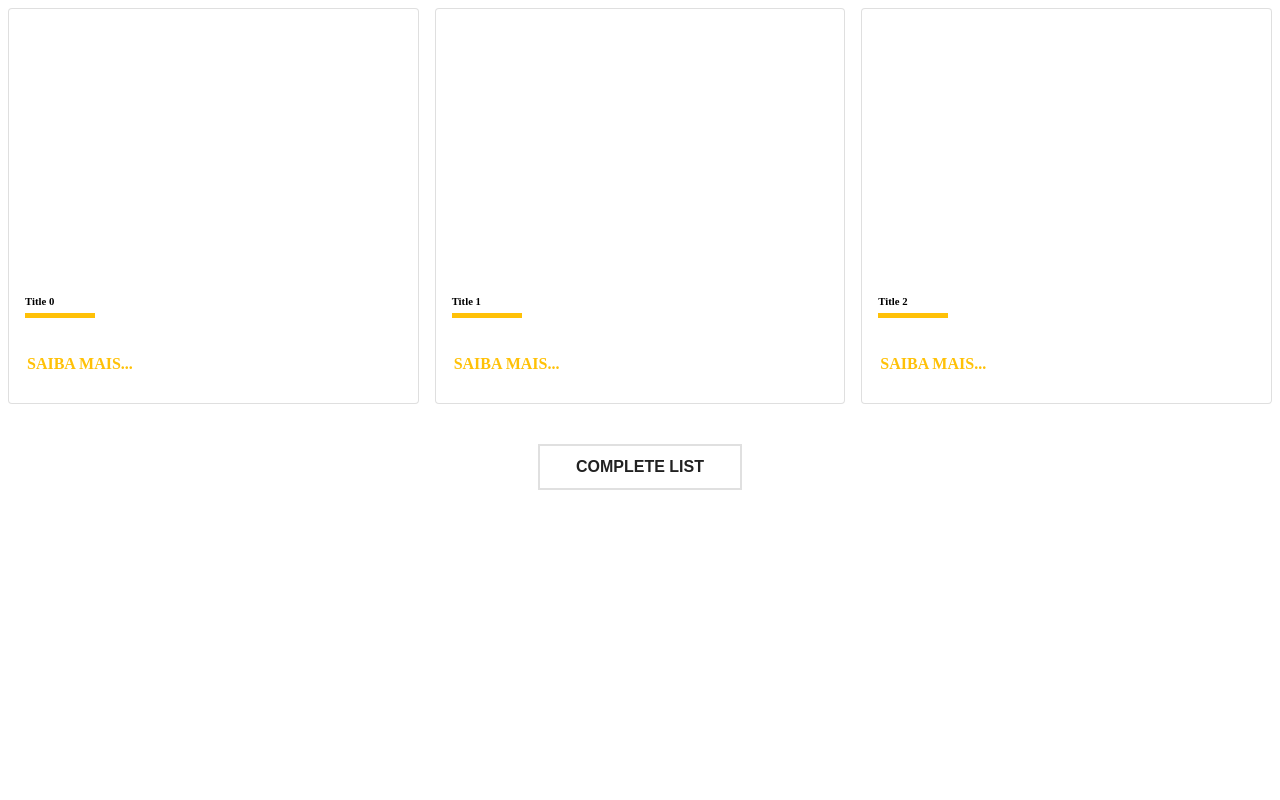
Test: it should renders only 4 products › it should render all products when the button is clicked
Click the button "Complete List": (640, 467) [538,444,742,490]
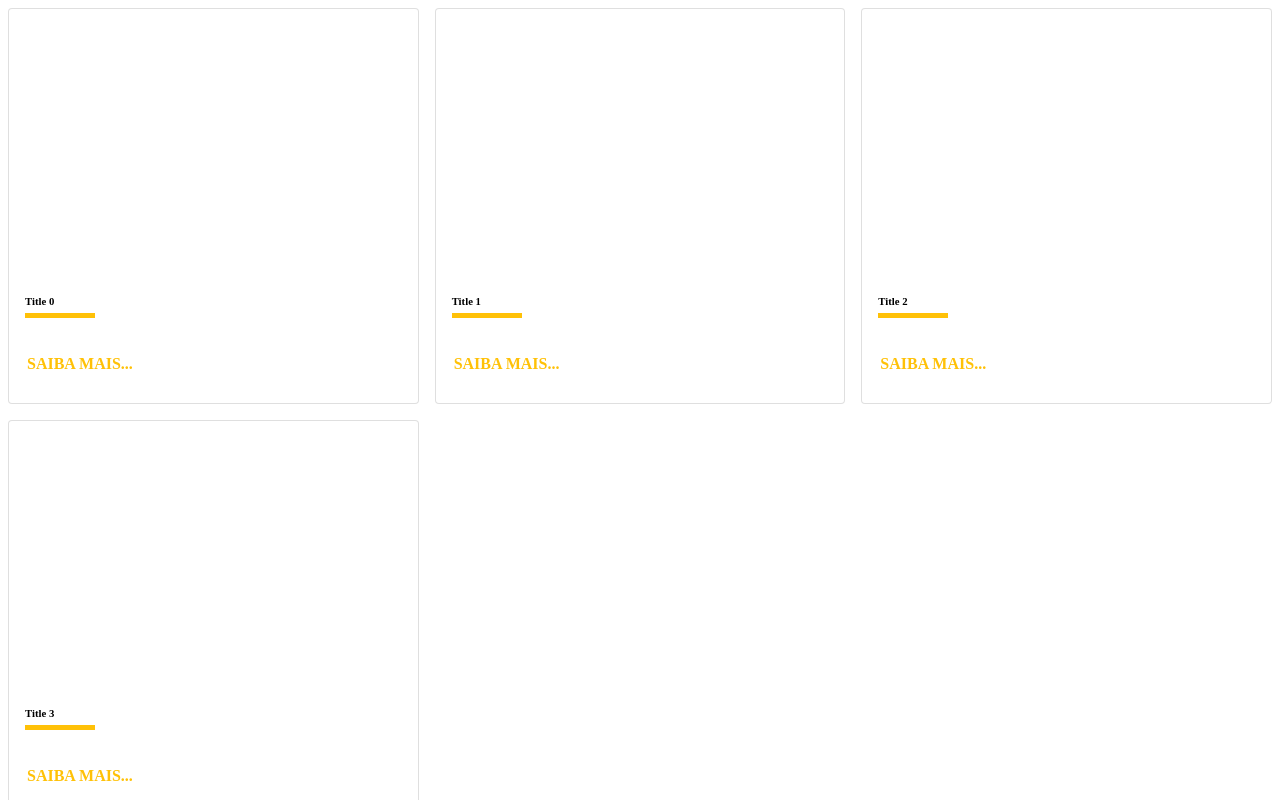
Check: the number of headings is 4, box [25,295,402,316]; [452,295,828,316]; [878,295,1255,316]; [25,707,402,728]
